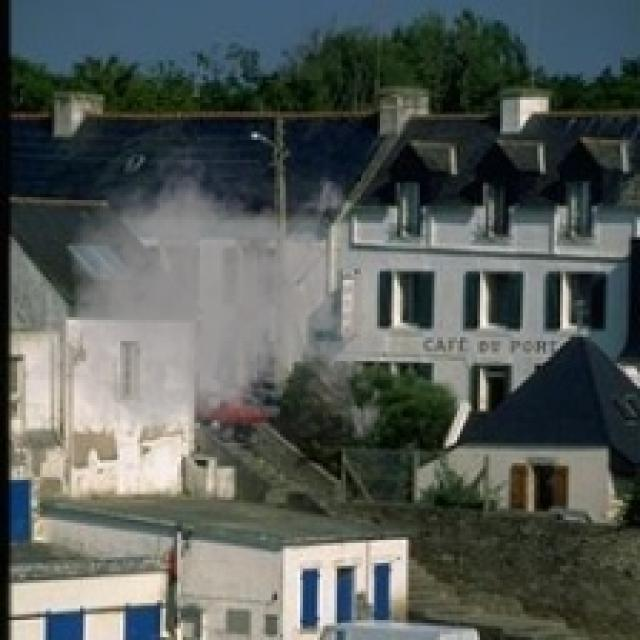Smoke: (32, 122, 394, 494)
